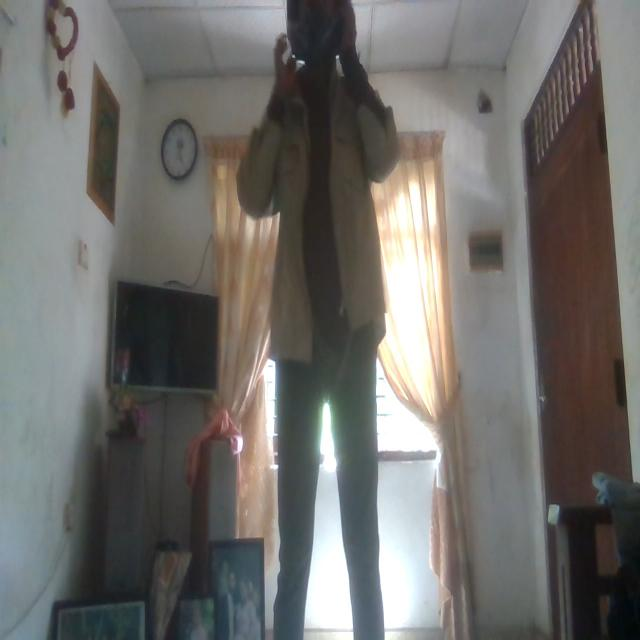Helmet_Wearer: (265, 0, 359, 70)
Jacket_Wearer: (238, 65, 401, 365)
Person: (235, 2, 405, 640)
